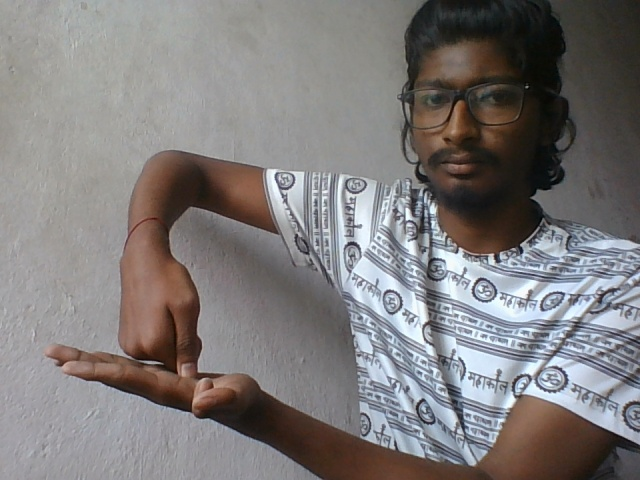What: (46, 236, 265, 430)
